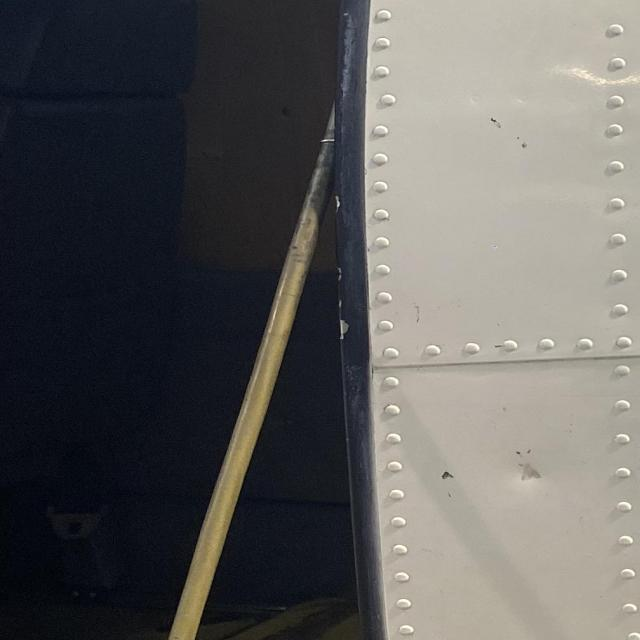Dent: (490, 436, 576, 497)
